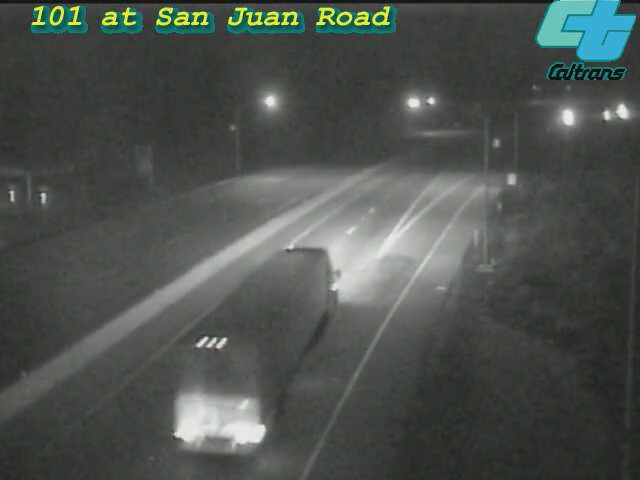vehicle: (194, 285, 304, 395), (584, 90, 634, 140), (541, 92, 591, 142), (596, 86, 640, 136)
